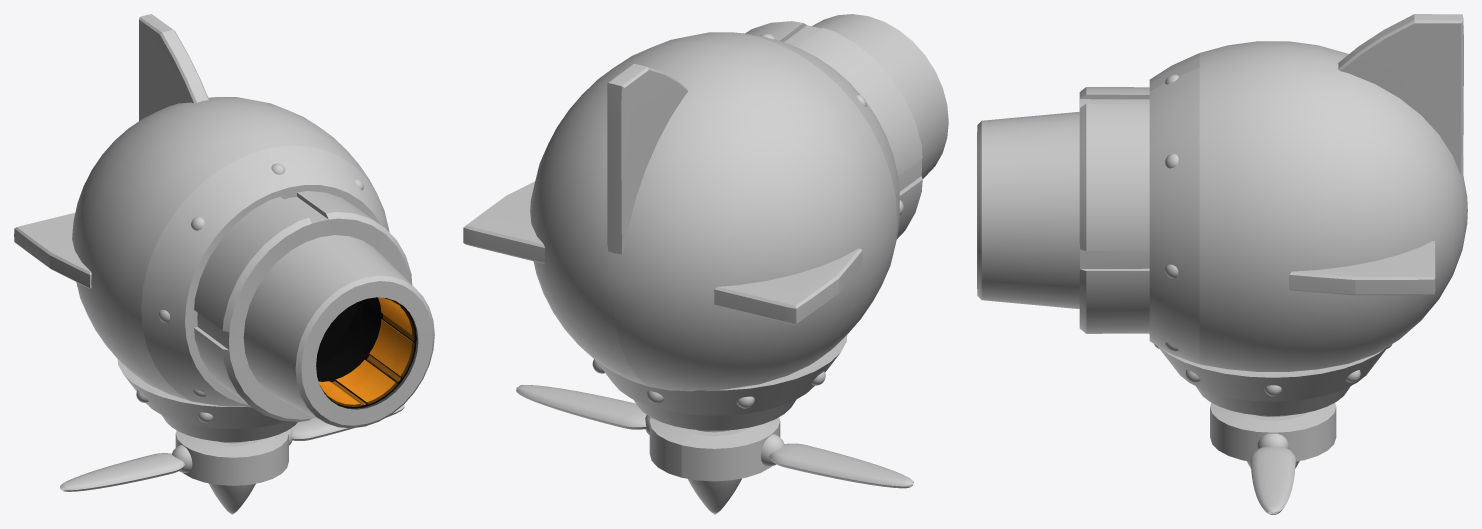
Rendered from CannopellerII.obj.
3 renders of one model, left to right at view 1: azimuth 30°, elevation 25°; view 2: azimuth 150°, elevation 25°; view 3: azimuth 270°, elevation 25°, orthographic. The views are drawn at different scales.
Visible parts, largest first — view 1: 0003_Group[0], 0004_Group[0], 0002_Group[0], 0000_Group[0]; view 2: 0003_Group[0]; view 3: 0003_Group[0].
Boxes of the visible parts, left/top/right/bottom form: 0003_Group[0]: left=14, top=14, right=434, bottom=514; 0004_Group[0]: left=319, top=297, right=415, bottom=406; 0002_Group[0]: left=316, top=297, right=418, bottom=409; 0000_Group[0]: left=62, top=302, right=358, bottom=489; 0003_Group[0]: left=463, top=14, right=948, bottom=514; 0003_Group[0]: left=977, top=14, right=1467, bottom=514.
Bounding box in the file's own units: 1.58 × 1.92 × 1.78.
